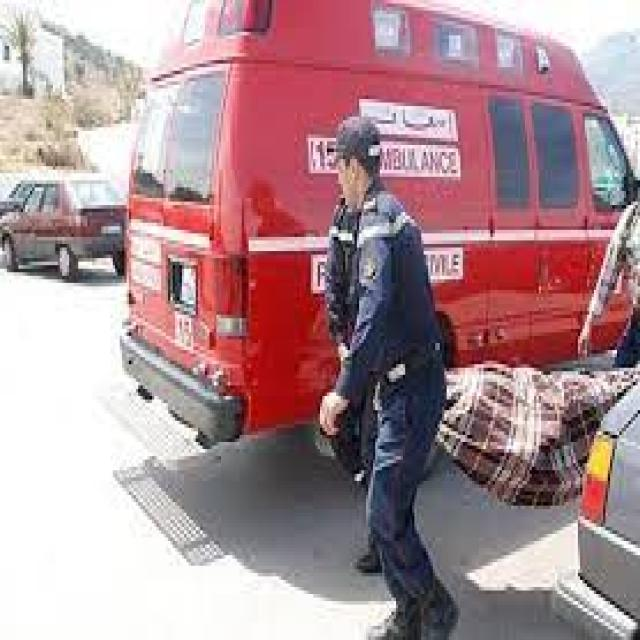ambulance: (119, 3, 640, 442)
